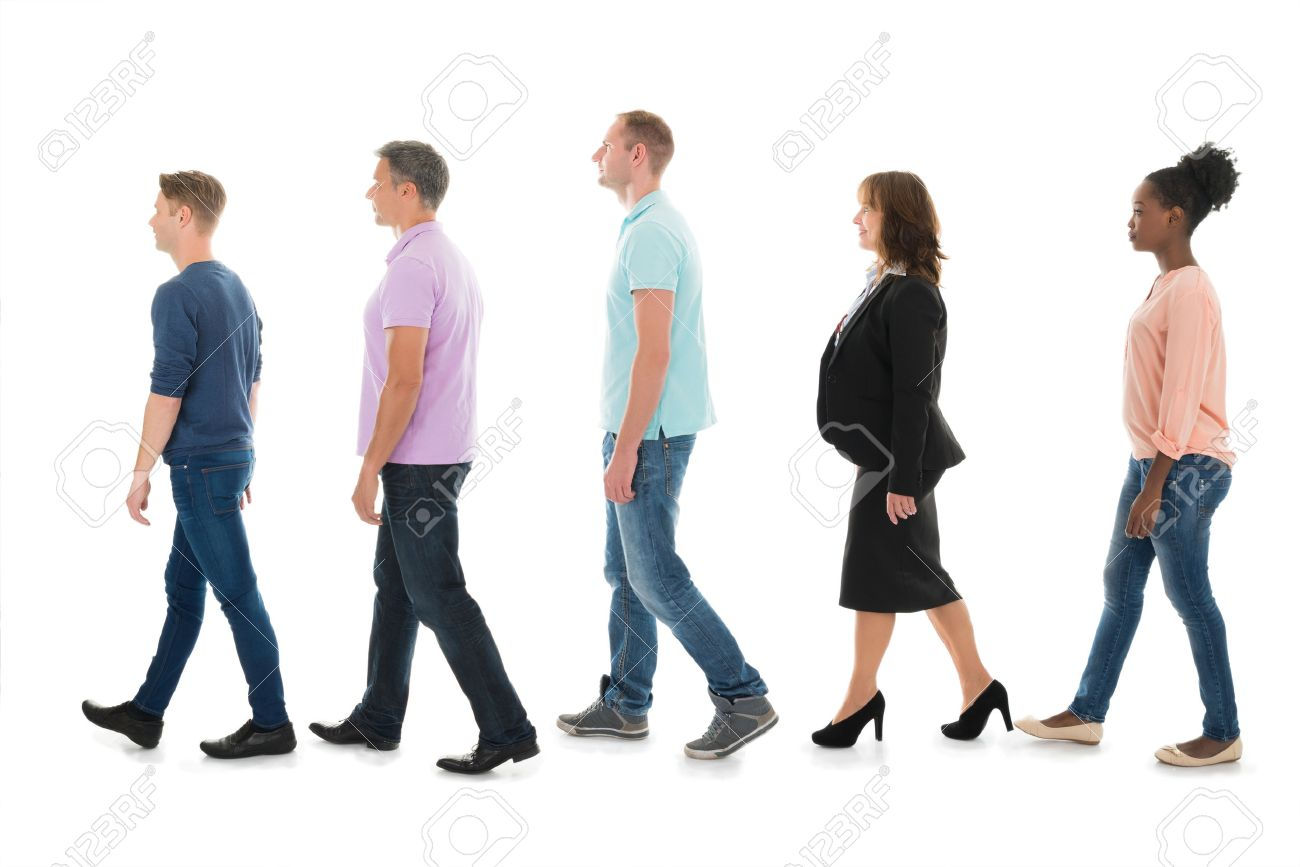NOTSAFE: (358, 134, 477, 480), (597, 108, 713, 451), (143, 164, 260, 484), (1127, 159, 1232, 484), (838, 165, 947, 472)
